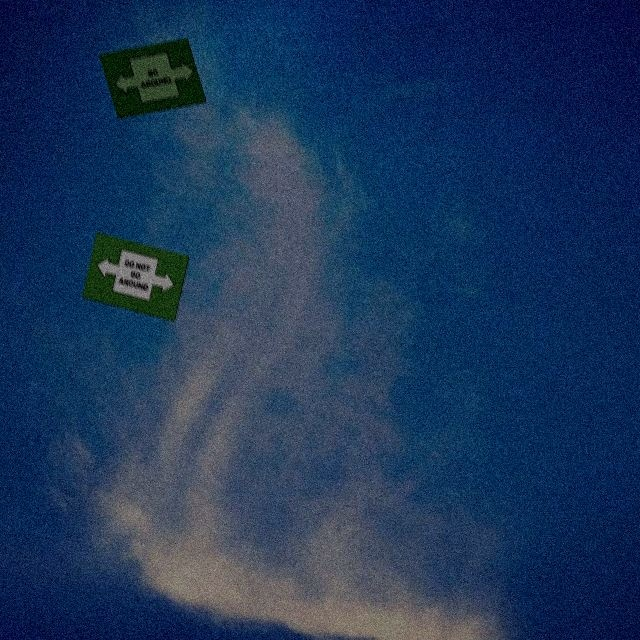DO_NOT_GO_AROUND: (93, 243, 180, 306)
GO_AROUND: (109, 48, 202, 107)
